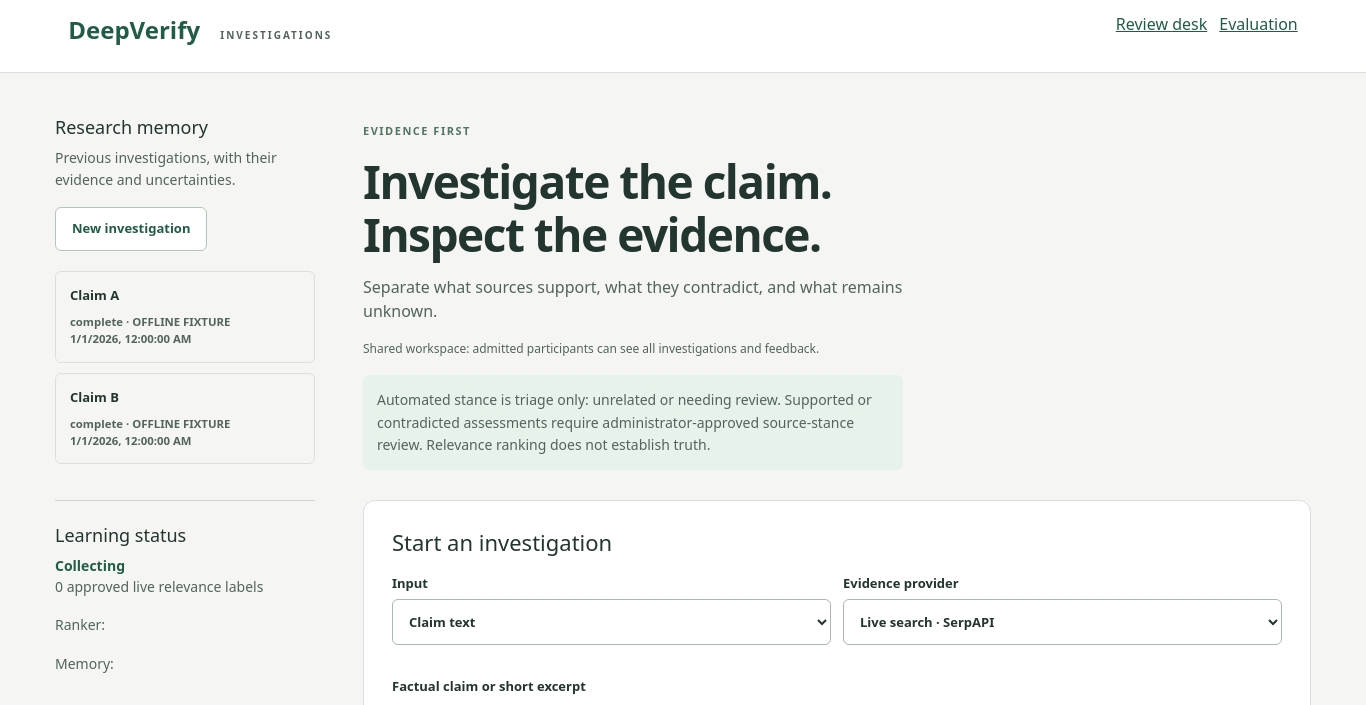
investigation navigation › keeps B when A finishes last even if transport ignores cancellation
What coordinates should you click on to do the following:
click the button "Claim A complete · OFFLINE FIXTURE1/1/2026, 12:00:00 AM"
I would click on:
 (185, 317)
Its box is [55,271,315,362].
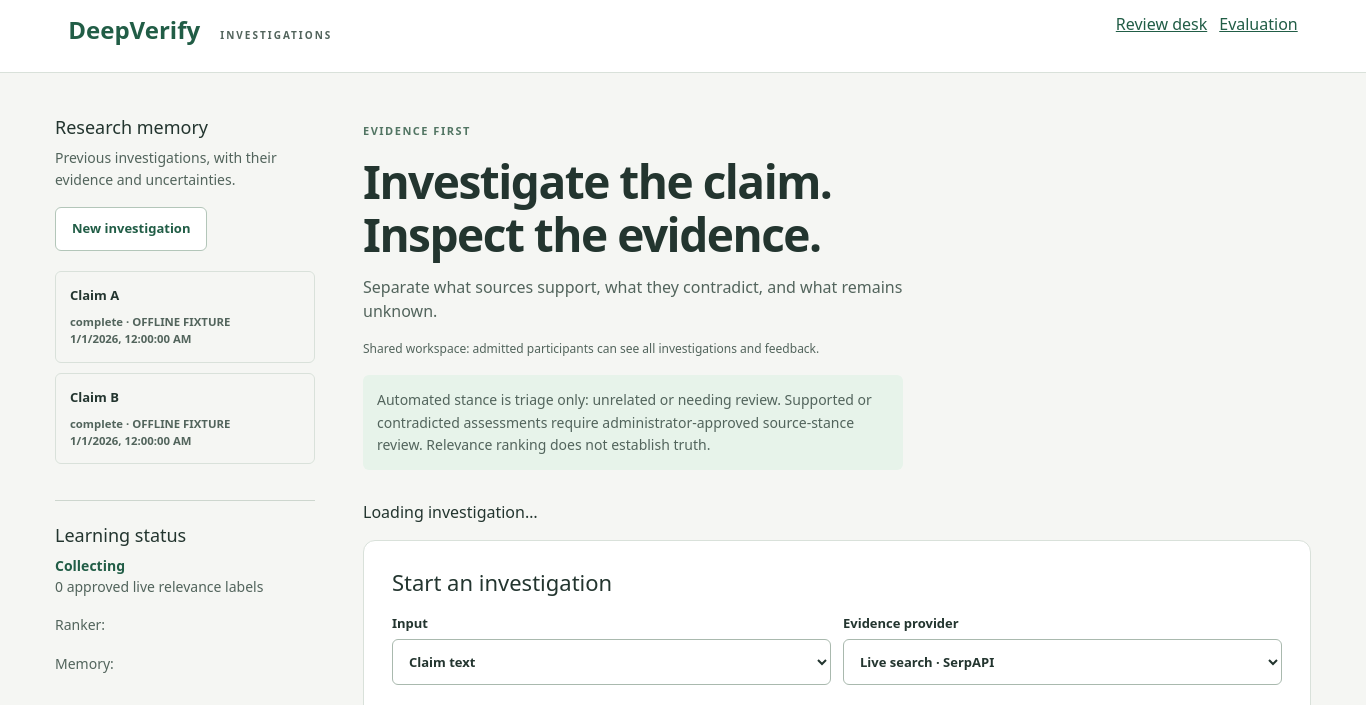
What coordinates should you click on to do the following:
click the button "Claim B complete · OFFLINE FIXTURE1/1/2026, 12:00:00 AM"
I would click on:
 (185, 418)
Its box is [55,372,315,464].
(page scrolled)
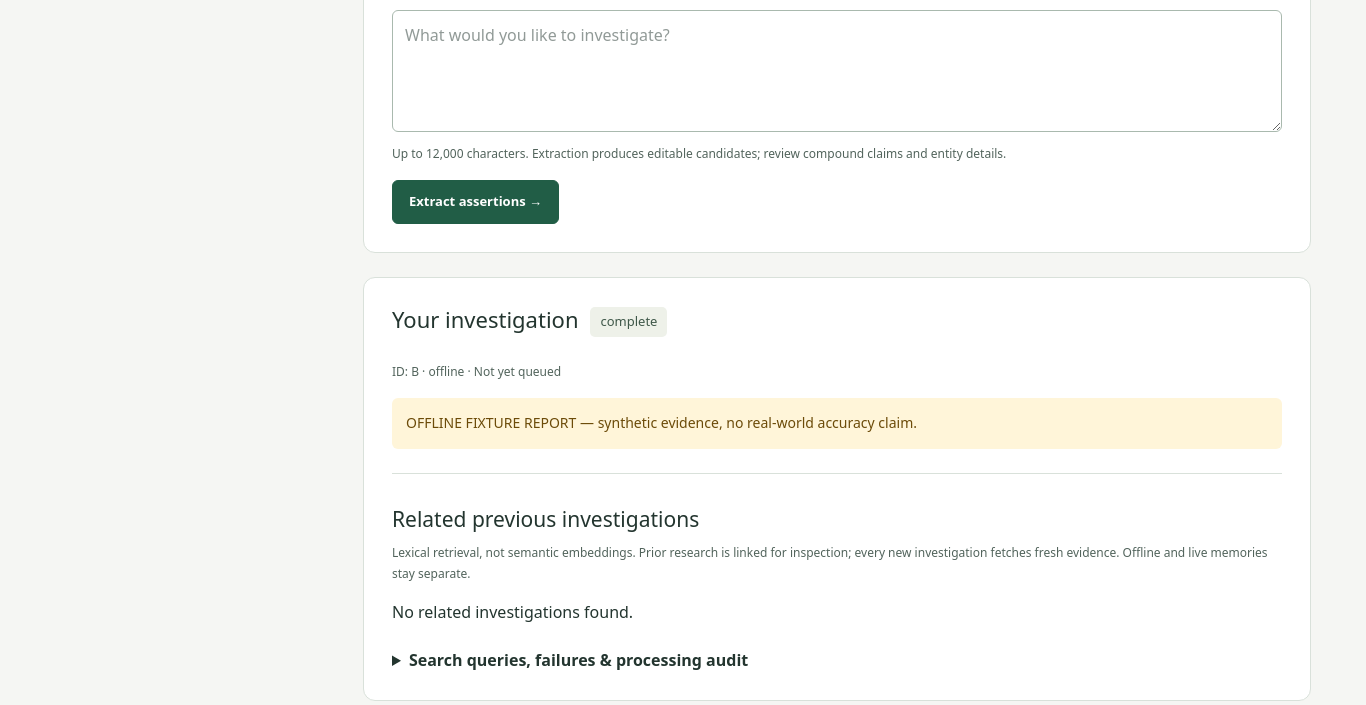
Expected: the text "ID: B · offline · Not yet queued" is shown, [392,363,561,380]
